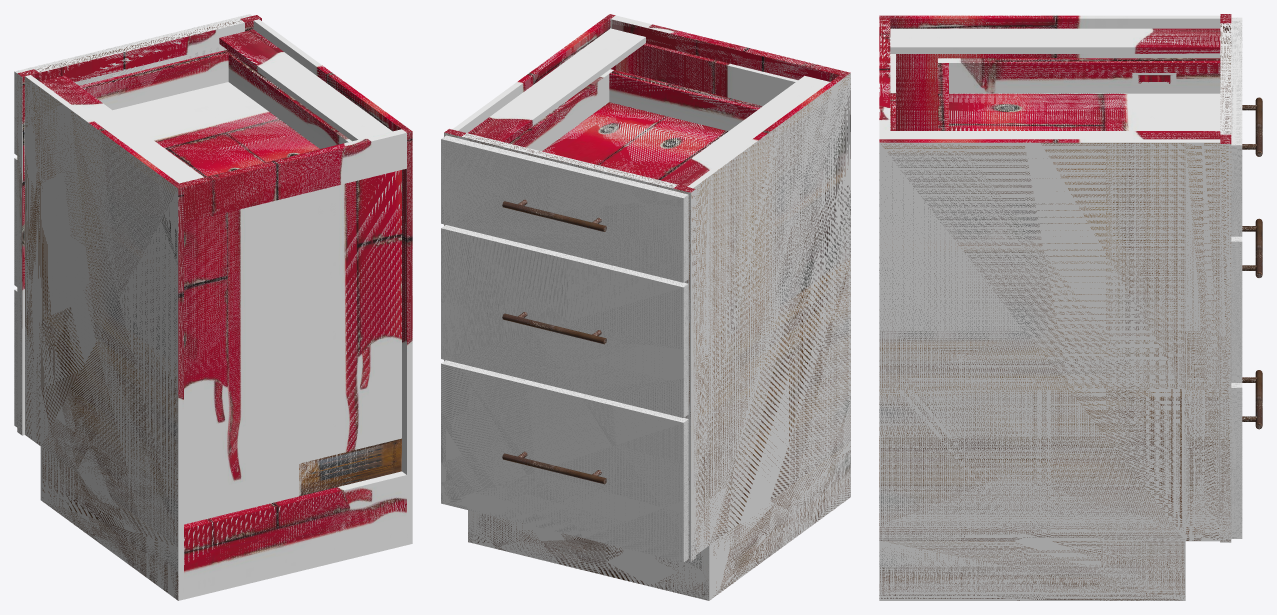
3 renders of one model, left to right at view 1: azimuth 30°, elevation 25°; view 2: azimuth 150°, elevation 25°; view 3: azimuth 270°, elevation 25°, orthographic. The views are drawn at different scales.
Visible parts, largest first — view 1: mesh4_mesh4-geometry, mesh7_mesh7-geometry, mesh12_mesh12-geometry, mesh19_mesh19-geometry, mesh3_mesh3-geometry, mesh8_mesh8-geometry, mesh6_mesh6-geometry, mesh10_mesh10-geometry, mesh14_mesh14-geometry, mesh17_mesh17-geometry, mesh5_mesh5-geometry, mesh15_mesh15-geometry (+5 smaller); view 2: mesh24_mesh24-geometry, mesh7_mesh7-geometry, mesh26_mesh26-geometry, mesh8_mesh8-geometry, mesh19_mesh19-geometry, mesh13_mesh13-geometry, mesh14_mesh14-geometry, mesh4_mesh4-geometry, mesh6_mesh6-geometry, mesh17_mesh17-geometry, mesh3_mesh3-geometry, mesh15_mesh15-geometry (+6 smaller); view 3: mesh10_mesh10-geometry, mesh11_mesh11-geometry, mesh9_mesh9-geometry, mesh19_mesh19-geometry, mesh16_mesh16-geometry, mesh7_mesh7-geometry, mesh15_mesh15-geometry, mesh2_mesh2-geometry, mesh24_mesh24-geometry, mesh14_mesh14-geometry, mesh26_mesh26-geometry, mesh3_mesh3-geometry (+5 smaller).
Part boxes in pixels (x1,y1,x2,y2): mesh4_mesh4-geometry: [184, 170, 401, 524]; mesh7_mesh7-geometry: [40, 86, 183, 546]; mesh12_mesh12-geometry: [184, 471, 406, 599]; mesh19_mesh19-geometry: [113, 82, 319, 177]; mesh3_mesh3-geometry: [179, 129, 406, 222]; mesh8_mesh8-geometry: [40, 447, 183, 600]; mesh6_mesh6-geometry: [25, 75, 45, 445]; mesh10_mesh10-geometry: [269, 30, 412, 491]; mesh14_mesh14-geometry: [219, 29, 392, 141]; mesh17_mesh17-geometry: [80, 50, 228, 110]; mesh5_mesh5-geometry: [34, 19, 244, 82]; mesh15_mesh15-geometry: [40, 75, 203, 183]; mesh24_mesh24-geometry: [441, 225, 688, 562]; mesh7_mesh7-geometry: [704, 71, 850, 544]; mesh26_mesh26-geometry: [441, 135, 688, 282]; mesh8_mesh8-geometry: [703, 442, 850, 600]; mesh19_mesh19-geometry: [542, 102, 727, 180]; mesh13_mesh13-geometry: [474, 511, 703, 599]; mesh14_mesh14-geometry: [468, 28, 645, 143]; mesh4_mesh4-geometry: [611, 43, 797, 106]; mesh6_mesh6-geometry: [687, 175, 709, 554]; mesh17_mesh17-geometry: [609, 70, 762, 131]; mesh3_mesh3-geometry: [610, 15, 844, 81]; mesh15_mesh15-geometry: [661, 75, 829, 186]; mesh10_mesh10-geometry: [879, 139, 1185, 541]; mesh11_mesh11-geometry: [879, 541, 1185, 600]; mesh9_mesh9-geometry: [1185, 139, 1220, 541]; mesh19_mesh19-geometry: [949, 93, 1220, 130]; mesh16_mesh16-geometry: [938, 58, 1220, 93]; mesh7_mesh7-geometry: [879, 15, 1185, 130]; mesh15_mesh15-geometry: [890, 28, 1220, 53]; mesh2_mesh2-geometry: [1220, 14, 1231, 542]; mesh24_mesh24-geometry: [1231, 236, 1242, 538]; mesh14_mesh14-geometry: [890, 131, 1220, 139]; mesh26_mesh26-geometry: [1231, 17, 1242, 236]; mesh3_mesh3-geometry: [879, 18, 890, 139].
Bounding box in the file's own units: 0.4366 × 0.7172 × 0.5431.
